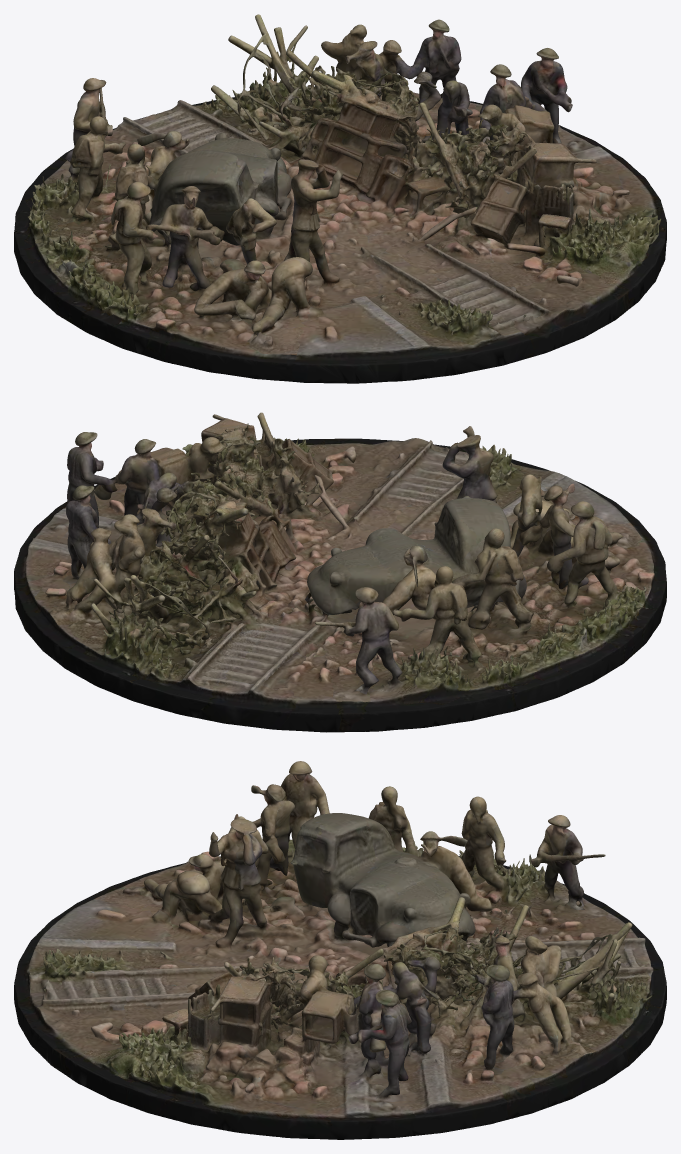
The model's file is giam_chan_quan_phap.glb.
3 renders of one model, top to bottom at view 1: azimuth 30°, elevation 25°; view 2: azimuth 150°, elevation 25°; view 3: azimuth 270°, elevation 25°, orthographic.
Size of the model in its own units: 1.9 by 0.4514 by 1.9.
1 material, 1 textured.
